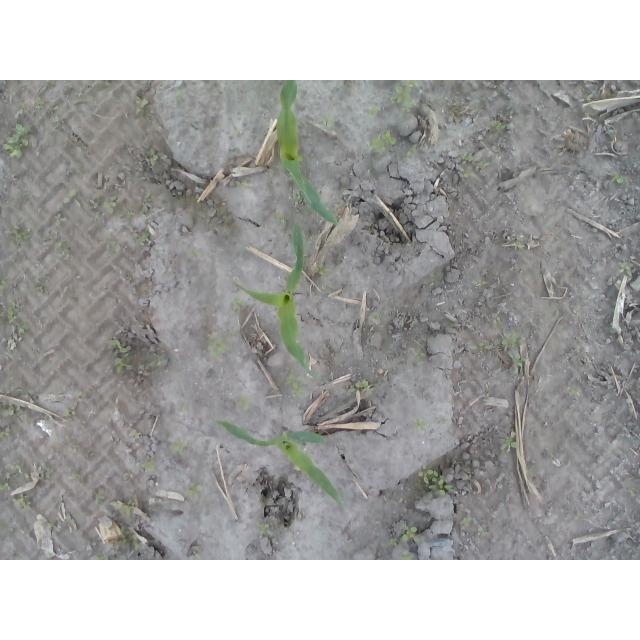Maize: (236, 223, 325, 385), (212, 416, 349, 515), (272, 80, 340, 224)
Weeds: (0, 119, 36, 160), (416, 464, 457, 496), (1, 300, 32, 337), (462, 152, 498, 180), (388, 80, 418, 112), (367, 129, 401, 155), (129, 351, 166, 371), (95, 193, 119, 223), (206, 328, 227, 360), (120, 523, 141, 553), (111, 339, 127, 378), (167, 437, 193, 459), (3, 223, 34, 241), (61, 189, 83, 211), (184, 478, 208, 498), (133, 224, 152, 249), (501, 330, 524, 350), (286, 374, 305, 398), (399, 519, 417, 543), (231, 291, 250, 313), (3, 463, 25, 482), (135, 95, 153, 118), (509, 354, 528, 375), (500, 432, 519, 453), (52, 237, 72, 256), (488, 116, 513, 131), (32, 271, 49, 293), (470, 339, 496, 353), (12, 494, 33, 511), (351, 377, 370, 395), (322, 110, 339, 130), (140, 191, 153, 217), (288, 187, 304, 208), (103, 238, 121, 256), (399, 143, 417, 161), (119, 495, 137, 513), (367, 103, 387, 119), (270, 210, 288, 227), (140, 459, 160, 474), (609, 176, 626, 193), (0, 402, 16, 420), (239, 392, 251, 416), (315, 262, 333, 278), (255, 520, 273, 536), (144, 146, 161, 162), (623, 479, 637, 498), (42, 463, 56, 481), (0, 424, 16, 439), (128, 207, 140, 225), (14, 386, 32, 398), (34, 96, 46, 113), (619, 260, 633, 274), (563, 384, 578, 397), (415, 418, 430, 431), (414, 346, 426, 362), (237, 180, 255, 190), (399, 552, 418, 561), (67, 471, 82, 481), (95, 491, 105, 506), (36, 350, 48, 362), (96, 80, 112, 89), (368, 311, 380, 323), (0, 480, 12, 492), (388, 537, 401, 548), (463, 516, 474, 529), (63, 406, 77, 416), (47, 519, 59, 530), (514, 241, 527, 251), (190, 550, 203, 560), (175, 87, 186, 98), (484, 383, 492, 398), (95, 552, 110, 560), (129, 431, 143, 439), (191, 248, 202, 258), (606, 127, 615, 139), (122, 472, 134, 481), (583, 93, 593, 103), (0, 278, 8, 290), (74, 89, 83, 99), (399, 496, 409, 505), (477, 528, 489, 535), (472, 279, 480, 289), (48, 80, 57, 88), (64, 80, 73, 86)
